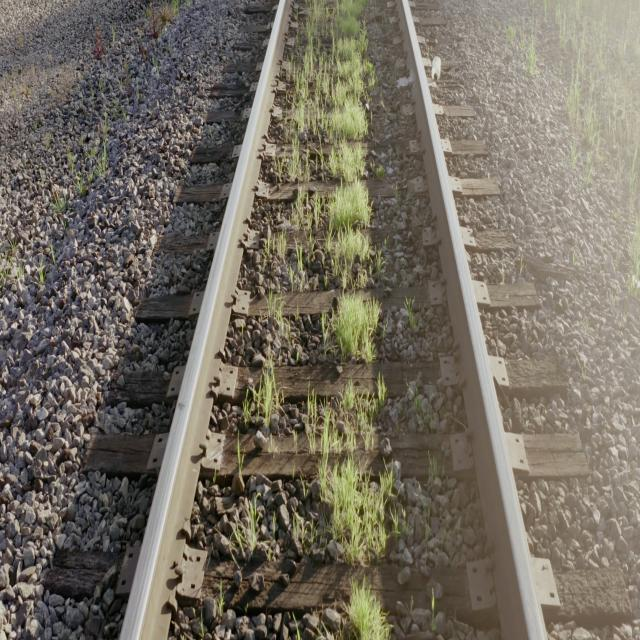Plant: (290, 0, 381, 362), (305, 389, 391, 564), (244, 364, 281, 424), (349, 584, 389, 638), (292, 238, 324, 287), (231, 507, 260, 553), (279, 147, 310, 178), (268, 233, 288, 264), (271, 302, 281, 320)
